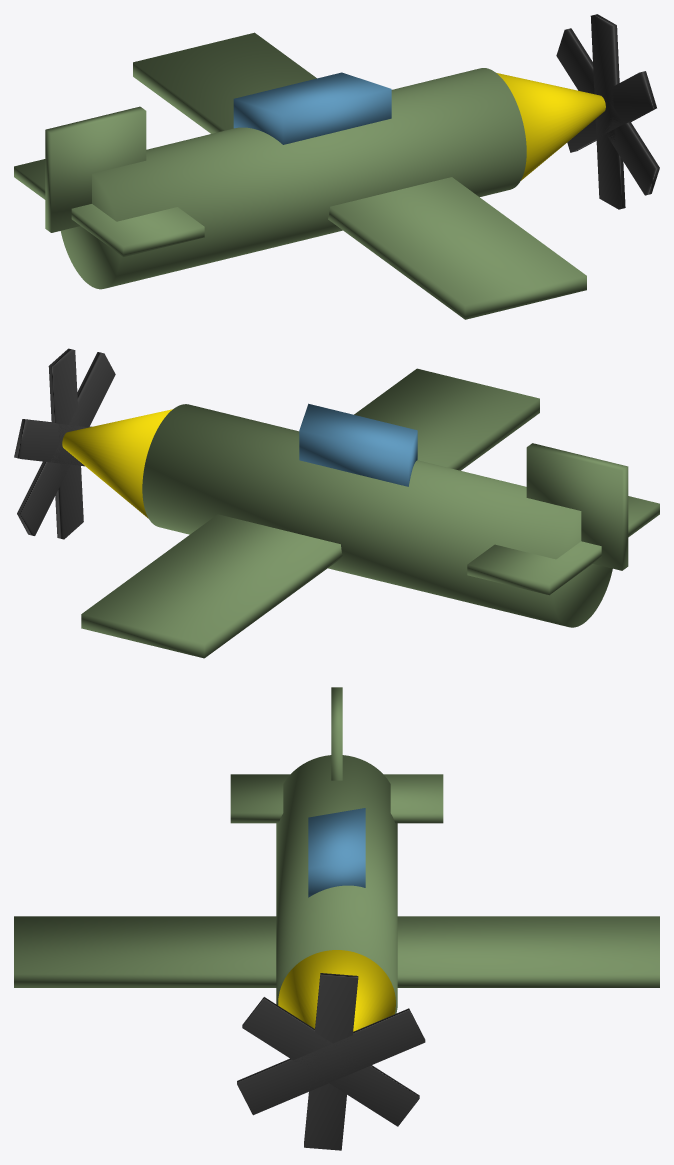
3 renders of one model, top to bottom at view 1: azimuth 30°, elevation 25°; view 2: azimuth 150°, elevation 25°; view 3: azimuth 270°, elevation 25°, orthographic. The views are drawn at different scales.
Visible parts, largest first — view 1: 1_Plane_Body, 3_Blades_Only, 2_Spinner_Connector; view 2: 1_Plane_Body, 3_Blades_Only, 2_Spinner_Connector; view 3: 1_Plane_Body, 3_Blades_Only, 2_Spinner_Connector.
Boxes of the visible parts, <box> form: 1_Plane_Body: <box>14,32,586,319</box>; 3_Blades_Only: <box>556,14,659,209</box>; 2_Spinner_Connector: <box>496,73,605,180</box>; 1_Plane_Body: <box>81,368,659,658</box>; 3_Blades_Only: <box>14,348,115,539</box>; 2_Spinner_Connector: <box>62,409,172,518</box>; 1_Plane_Body: <box>14,687,659,1013</box>; 3_Blades_Only: <box>237,973,425,1150</box>; 2_Spinner_Connector: <box>278,950,395,1031</box>.
Bounding box in the file's own units: 8.27 × 2.87 × 8.5.
